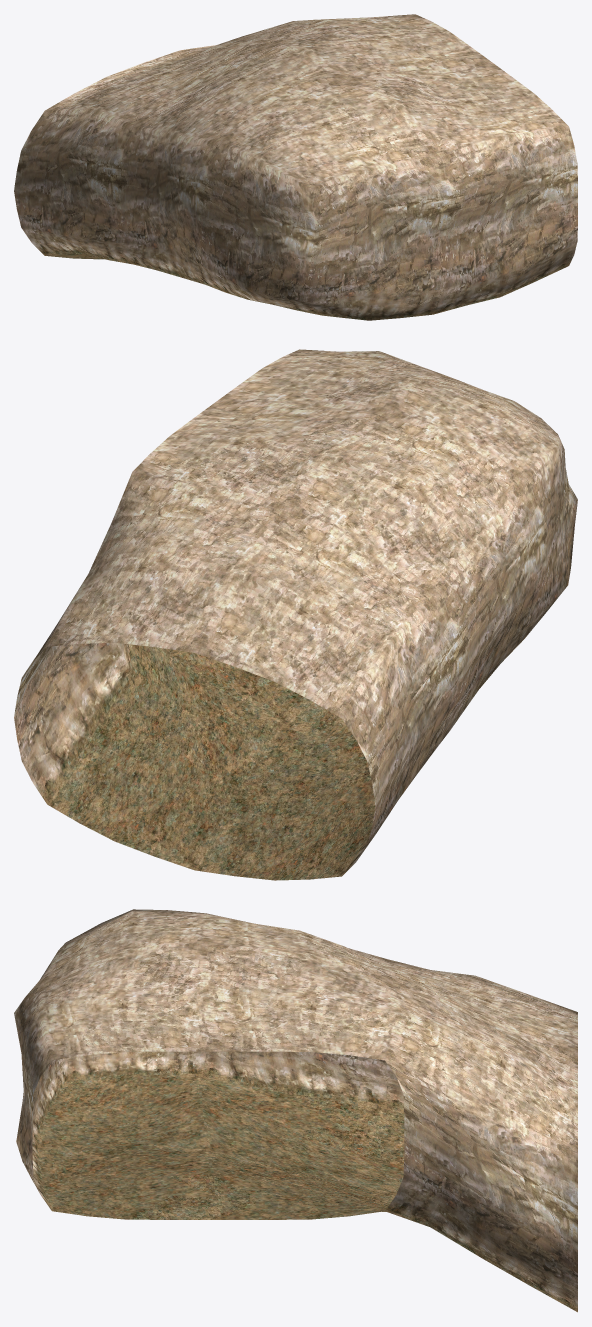
Rendered from thm_all_cave_s03_r21_mesh_r21.fbx.
3 renders of one model, top to bottom at view 1: azimuth 30°, elevation 25°; view 2: azimuth 150°, elevation 25°; view 3: azimuth 270°, elevation 25°, orthographic. The views are drawn at different scales.
Parts seen in each view (by area): view 1: mesh_node; view 2: mesh_node; view 3: mesh_node.
Boxes of the visible parts, <box> form: mesh_node: <box>14,14,577,320</box>; mesh_node: <box>14,349,577,880</box>; mesh_node: <box>14,909,577,1312</box>.
Bounding box in the file's own units: 17.9 × 15.47 × 24.28.
